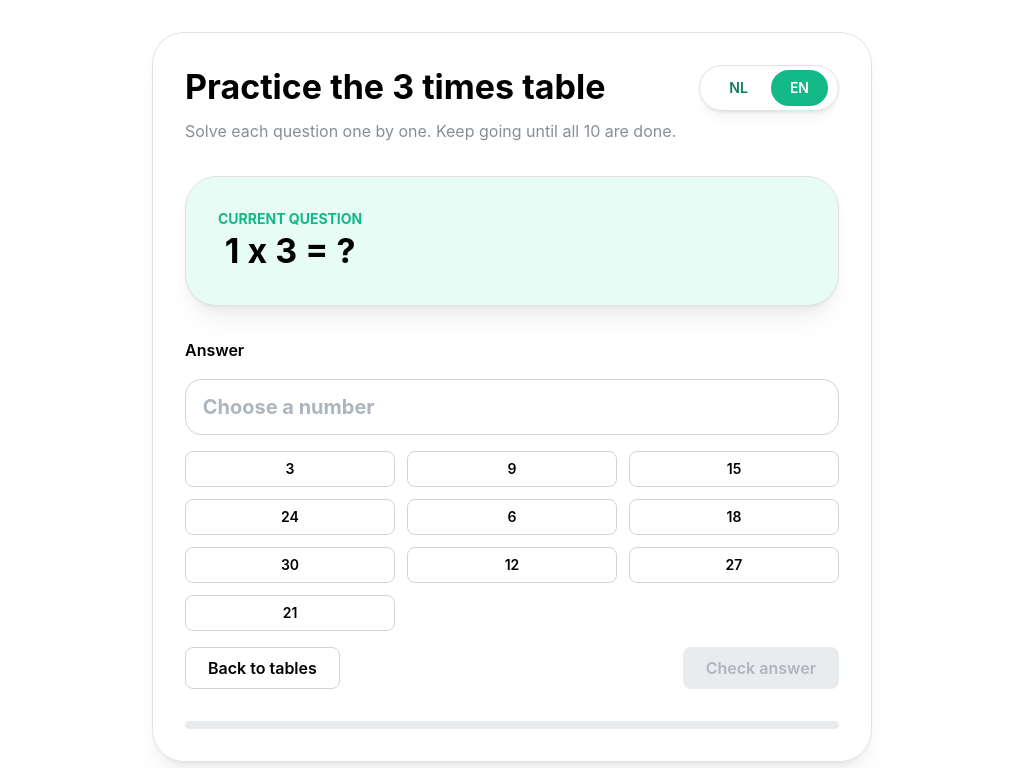
GIVEN an active practice session in English, WHEN I switch the app language to Dutch, THEN the visible practice text updates without losing the current question
Click the button "3": (290, 469) [185,451,395,487]
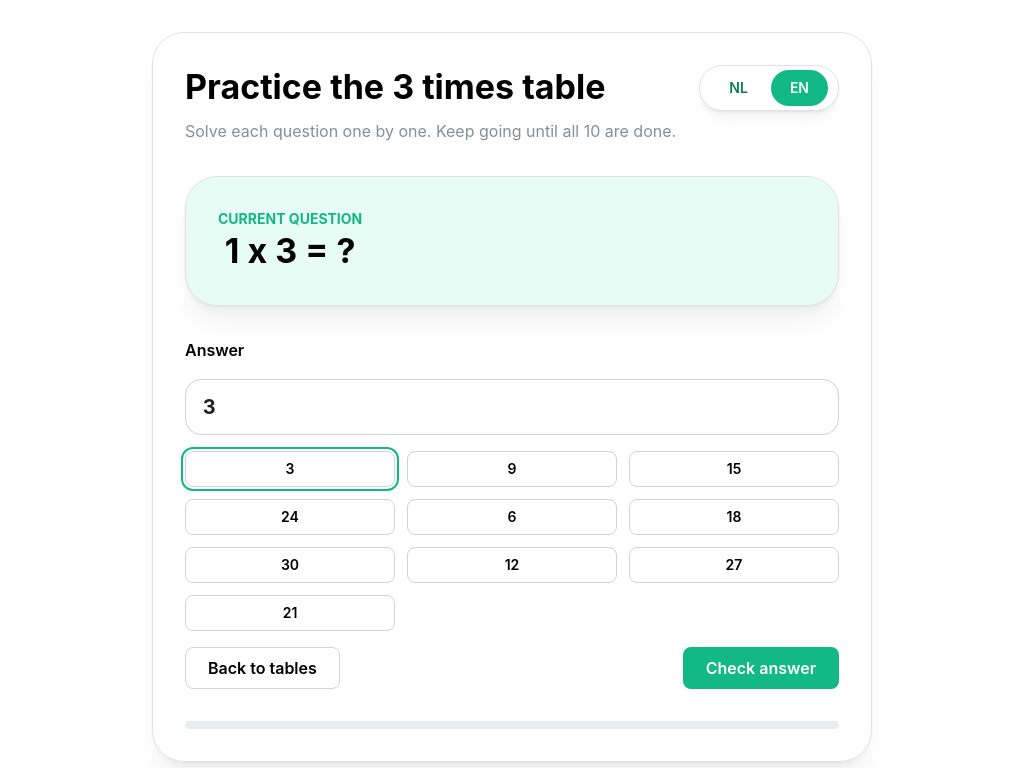
Click the button "Check answer": (761, 668) [683,647,839,689]
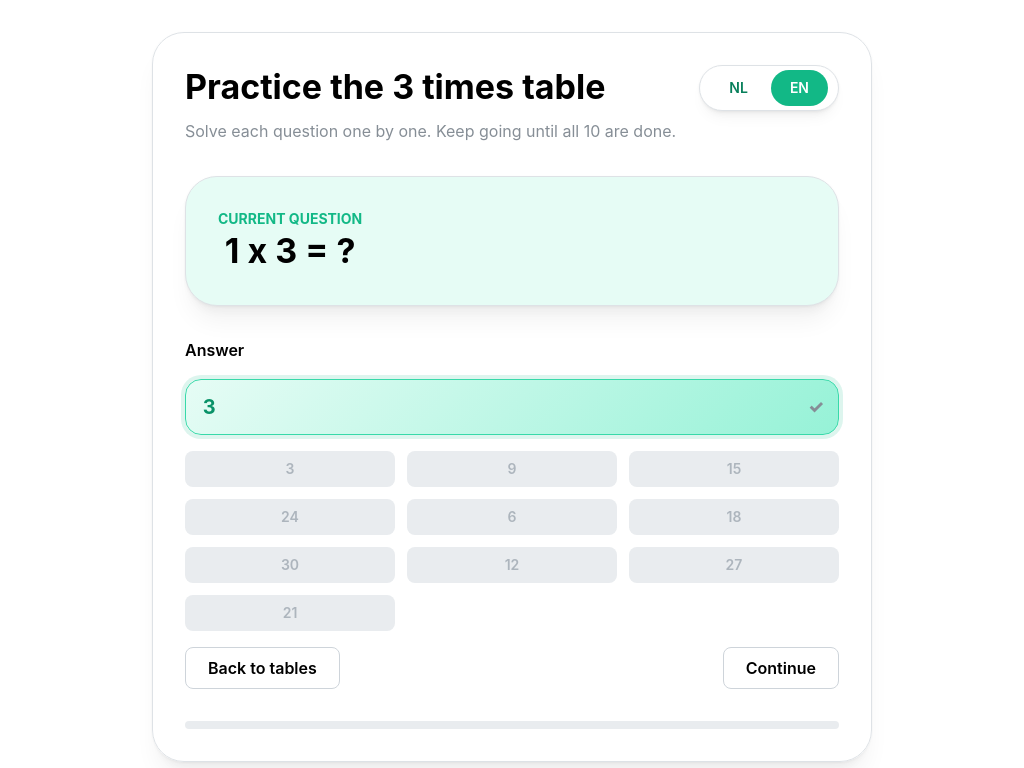
Click the button "Continue": (781, 668) [723,647,839,689]
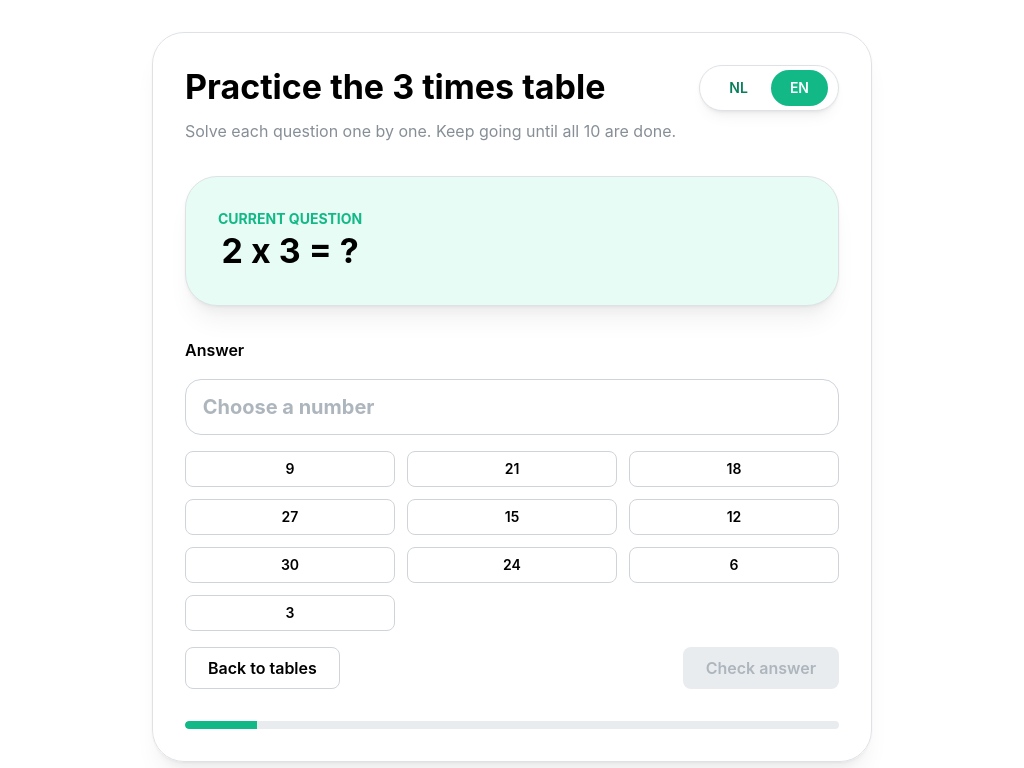
Click the button "9": (290, 469) [185,451,395,487]
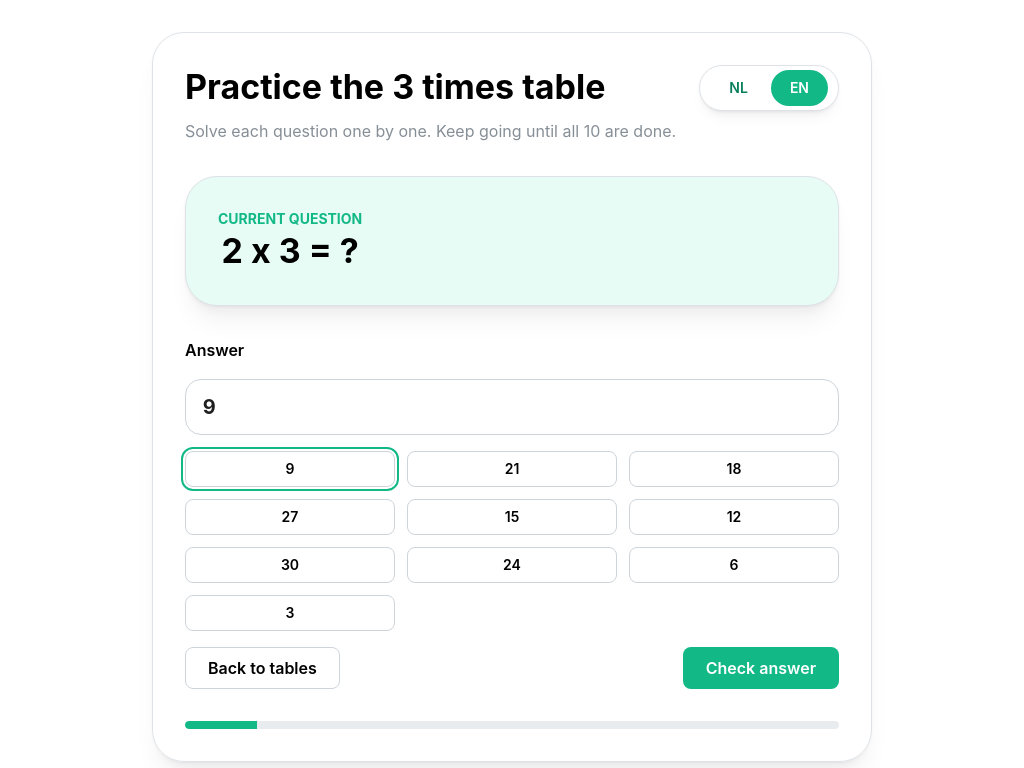
Click the button with aria-label "Nederlands": (739, 88) [710,70,767,106]
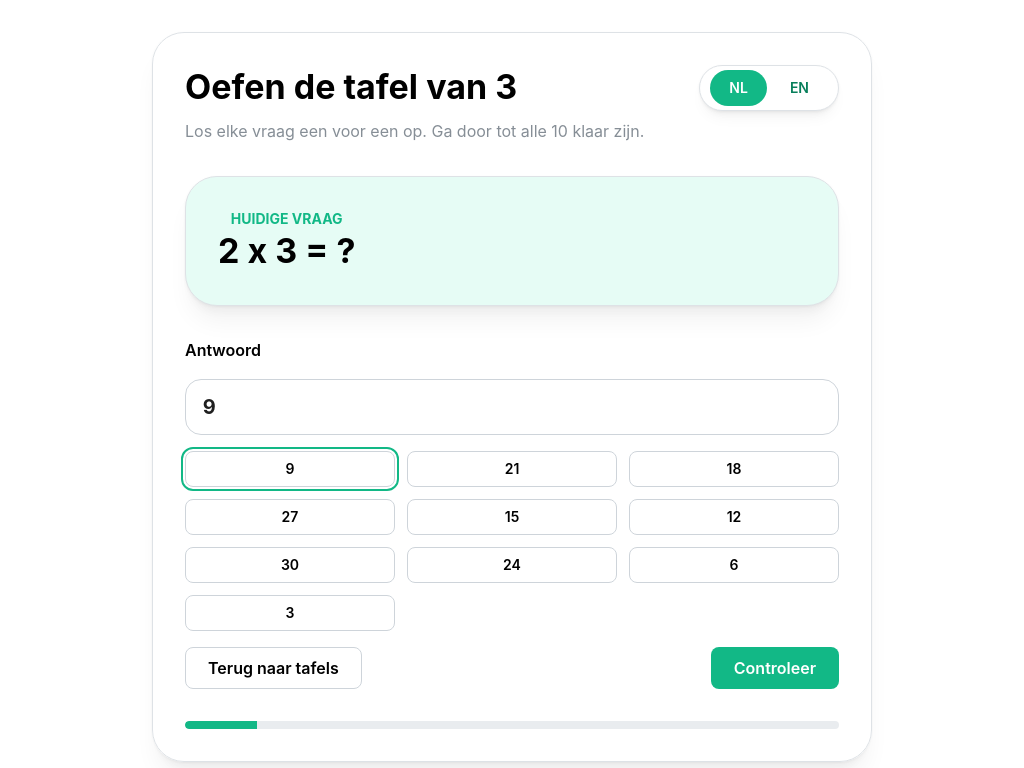
Result: the heading "2 x 3 = ?" is shown at [218,229,355,274]
Result: the heading "Oefen de tafel van 3" is shown at [185,66,517,107]
Result: the button "Controleer" is shown at [711,647,839,689]
